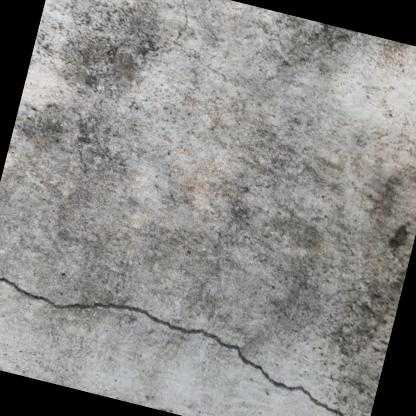crack: (0, 277, 344, 416)
